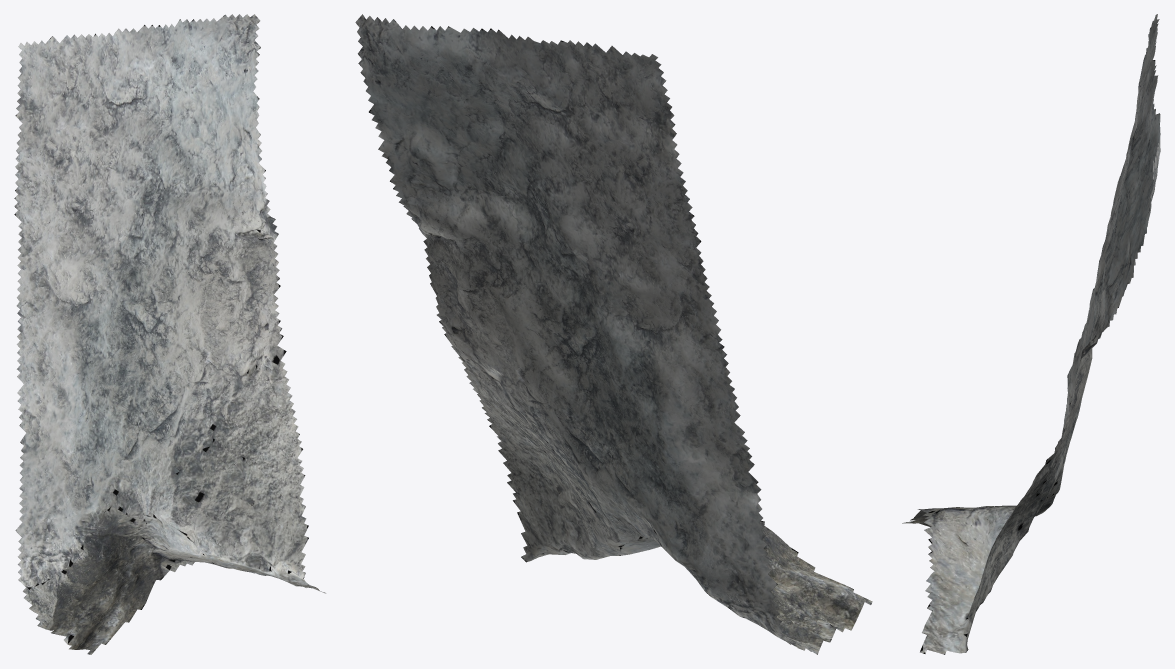
3 renders of one model, left to right at view 1: azimuth 30°, elevation 25°; view 2: azimuth 150°, elevation 25°; view 3: azimuth 270°, elevation 25°, orthographic. The views are drawn at different scales.
Parts seen in each view (by area): view 1: Large Photoscanned Rock 03; view 2: Large Photoscanned Rock 03; view 3: Large Photoscanned Rock 03.
Boxes of the visible parts, x1=… form: Large Photoscanned Rock 03: x1=14, y1=14, x2=325, y2=654; Large Photoscanned Rock 03: x1=355, y1=14, x2=872, y2=654; Large Photoscanned Rock 03: x1=902, y1=14, x2=1160, y2=654.
Bounding box in the file's own units: 0.6241 × 1.05 × 0.4537.
1 material, 1 textured.
